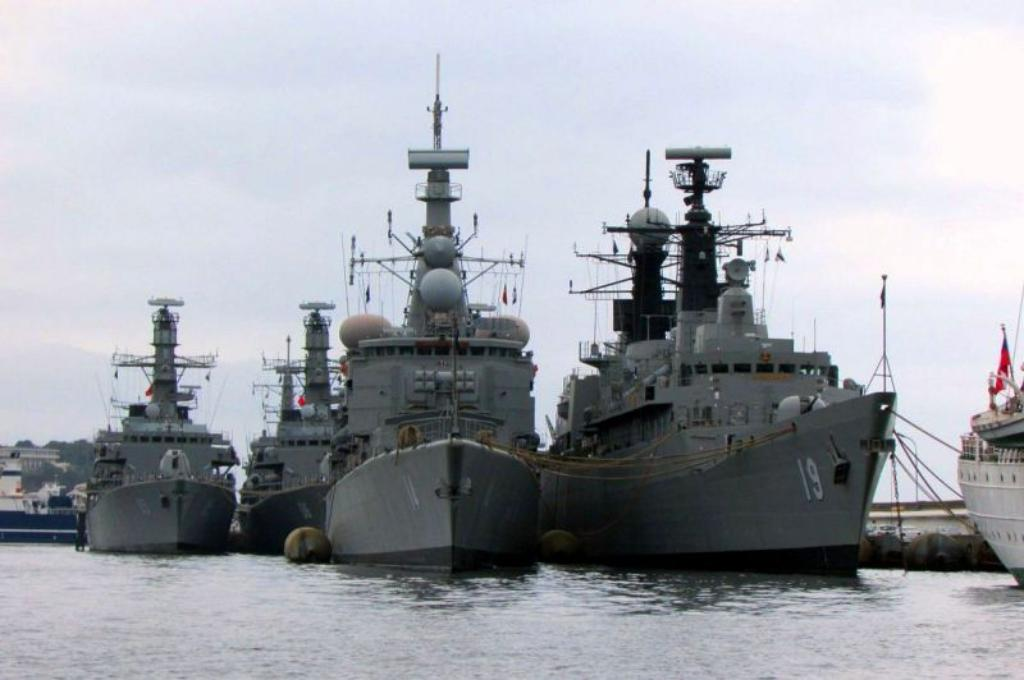Warship: (542, 128, 924, 588), (318, 44, 558, 578), (71, 272, 241, 562), (230, 284, 354, 558)
